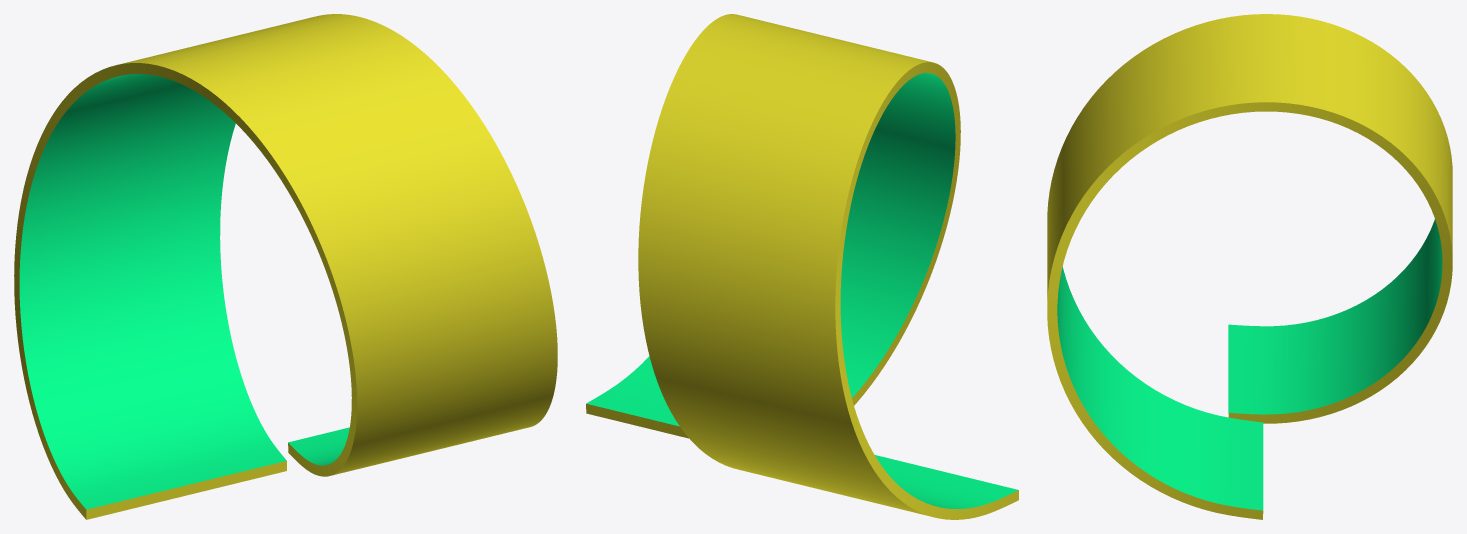
File: RibbonLoop_NoWall.fbx
3 renders of one model, left to right at view 1: azimuth 30°, elevation 25°; view 2: azimuth 150°, elevation 25°; view 3: azimuth 270°, elevation 25°, orthographic. The views are drawn at different scales.
Parts seen in each view (by area): view 1: Loop No Wall; view 2: Loop No Wall; view 3: Loop No Wall.
Part boxes in pixels (x1,y1,x2,y2): Loop No Wall: (14,14,557,519); Loop No Wall: (586,14,1018,519); Loop No Wall: (1047,14,1452,519).
Size of the model in its own units: 7511 by 6963 by 6941.
